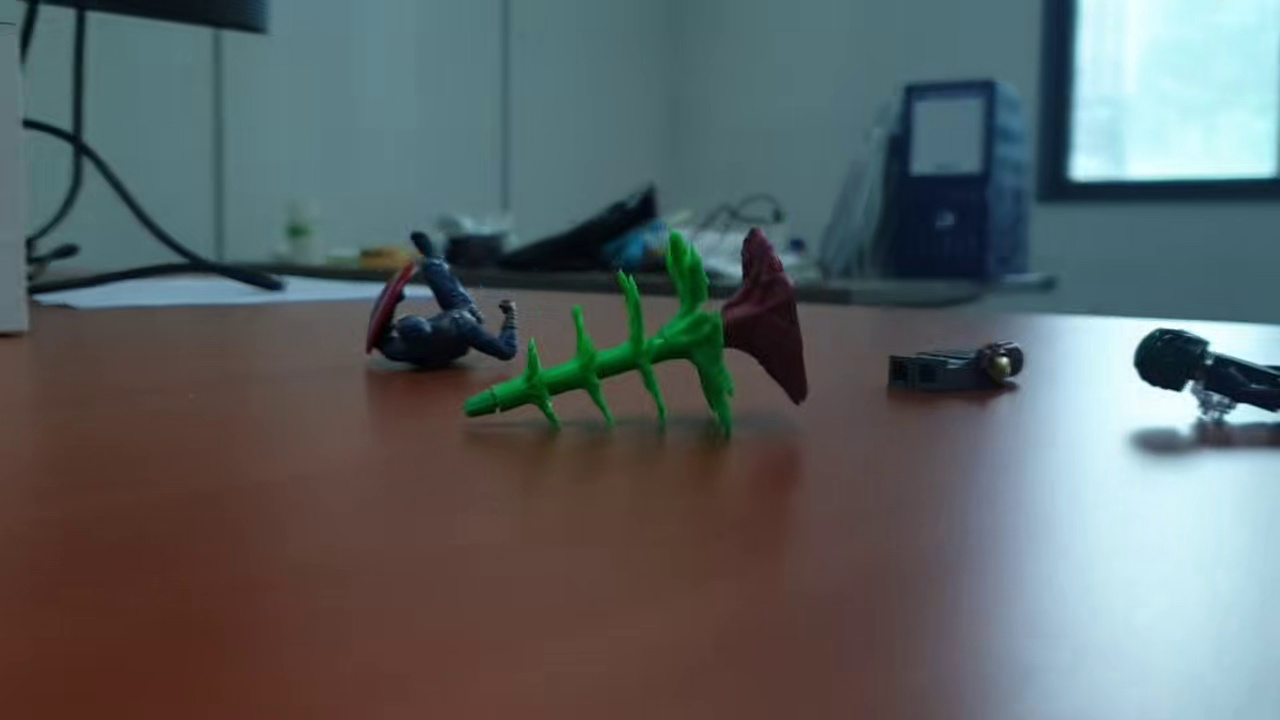people: (359, 228, 525, 374), (1131, 327, 1280, 430), (881, 337, 1031, 402)
tree: (459, 222, 813, 435)
